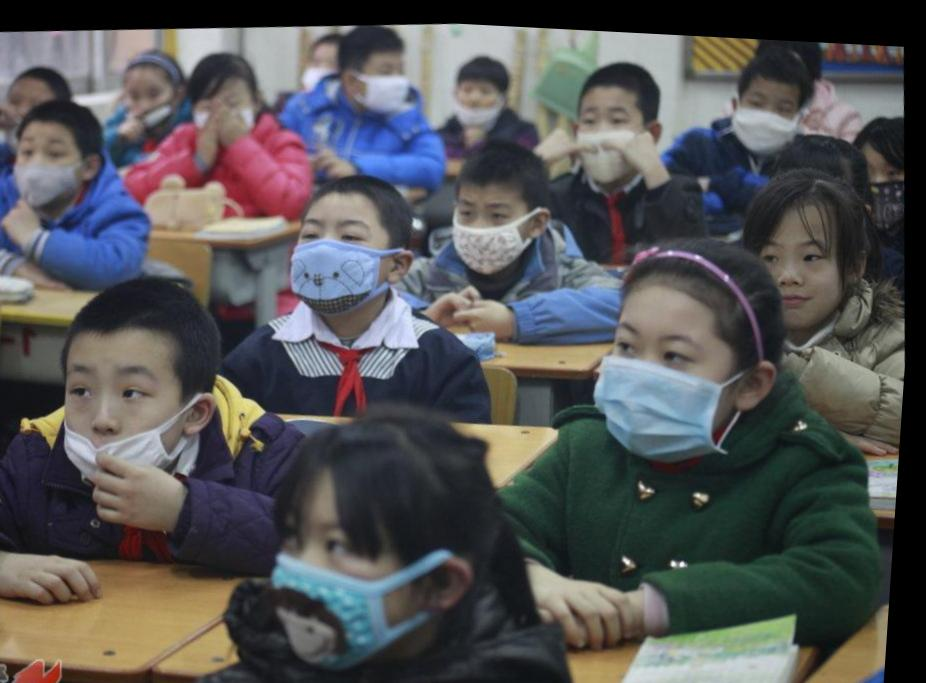NONE: (753, 224, 857, 324)
OK: (276, 502, 448, 671), (590, 309, 736, 454), (289, 205, 401, 313), (12, 128, 89, 215), (572, 96, 654, 177), (727, 69, 805, 147), (848, 140, 912, 222), (349, 48, 416, 113), (196, 81, 262, 146)
WRONG: (63, 350, 201, 491), (453, 181, 545, 271), (126, 72, 186, 131), (452, 73, 509, 129)
